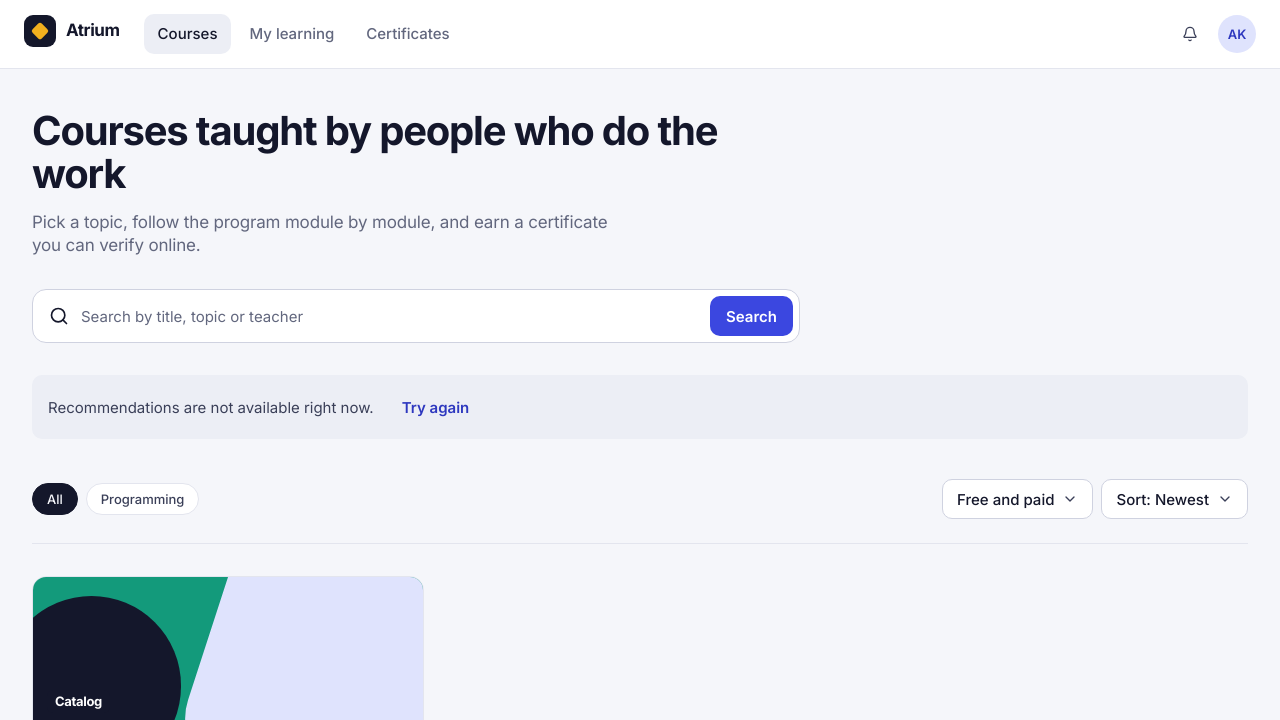
recommended courses › explains a failure and retries
The width and height of the screenshot is (1280, 720).
Expected: the text "Recommendations are not available right now." is shown, [48,398,374,417]
Click the button "Try again": point(436, 407) [386,387,485,427]
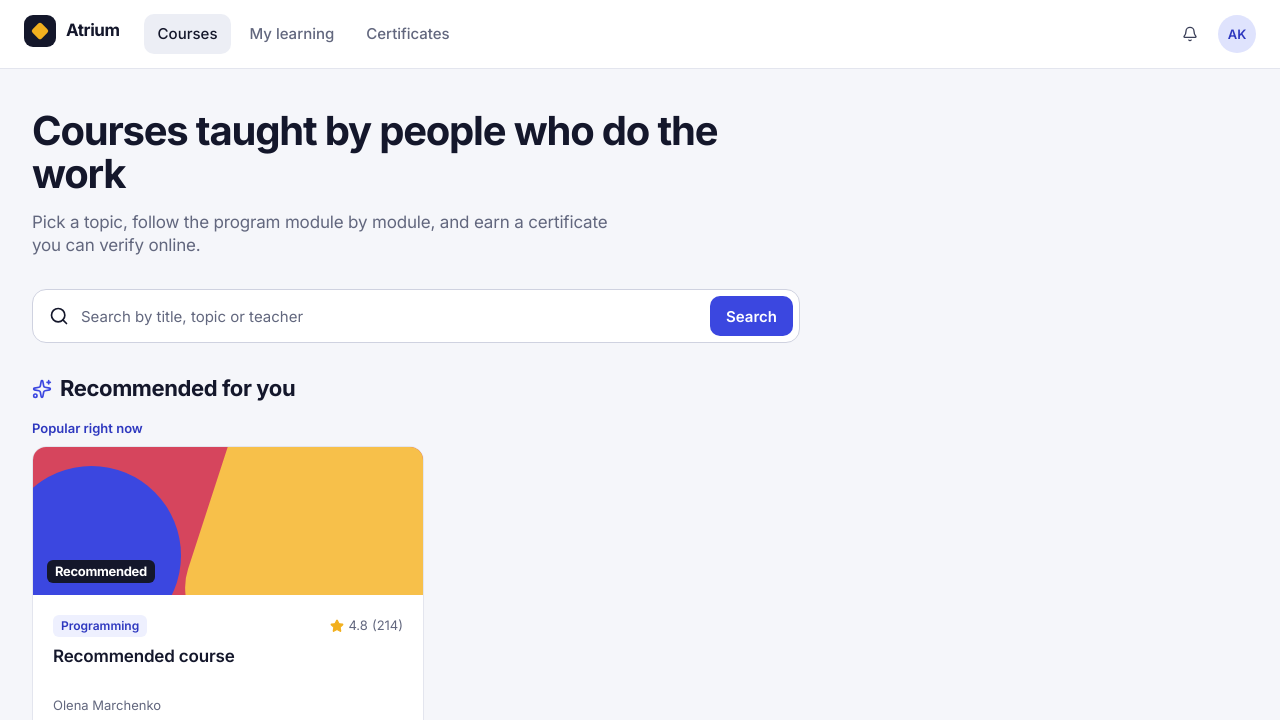
Now the link "Recommended course" is shown, box [53,646,234,666]
